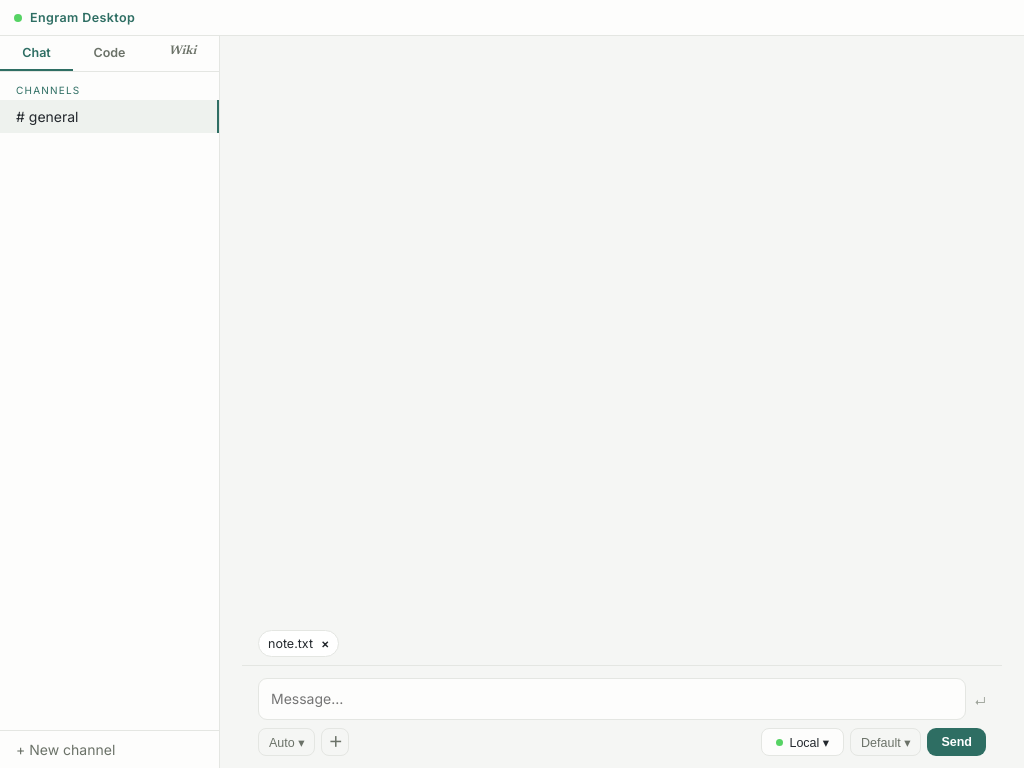
Test: Send 시 send 프레임에 attachments ids가 실리고 칩이 비워진다
Check: the text "# general" is shown, box x1=16 y1=108 x2=78 y2=125
Check: the text "note.txt" is shown, box x1=268 y1=636 x2=313 y2=651
In the text box with placeholder "Message…": x=612, y=699 x1=258 y1=678 x2=966 y2=720, type "hello"
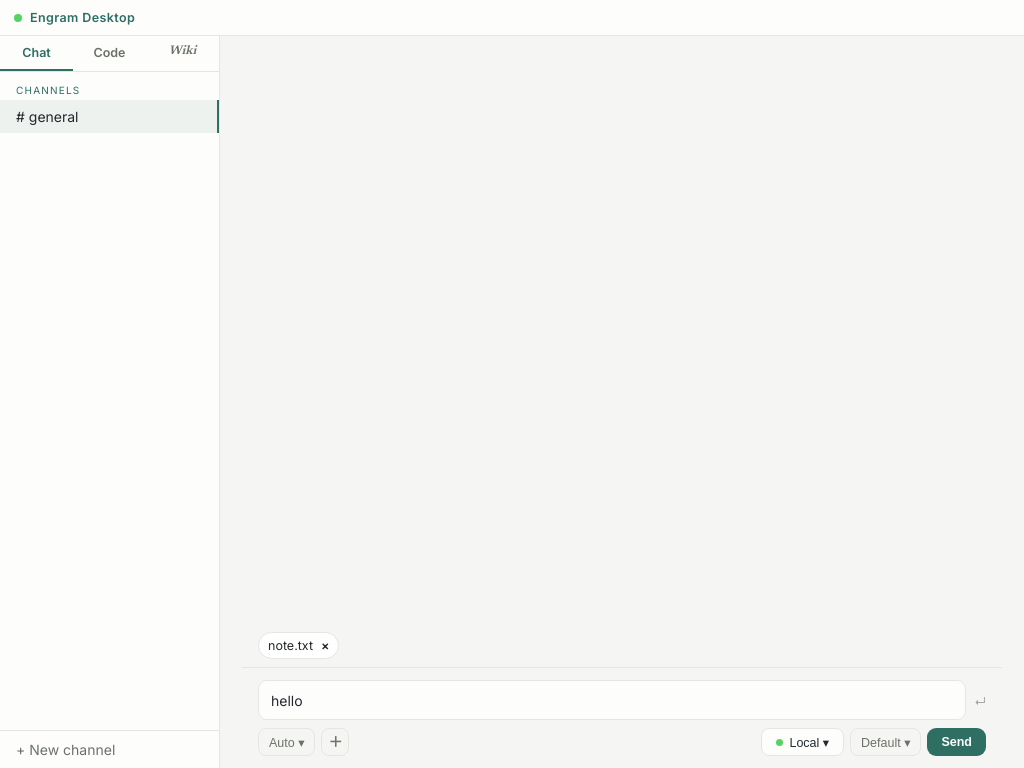
Press Enter in the text box, box x1=258 y1=680 x2=966 y2=720
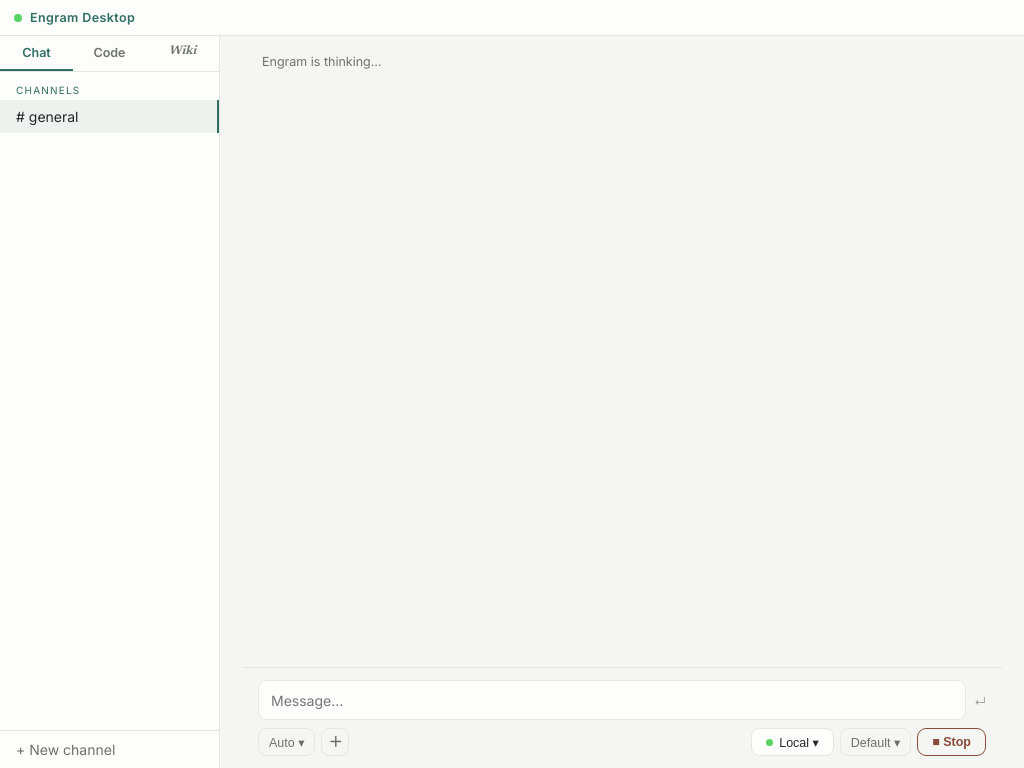
Check: the text "note.txt" is gone
